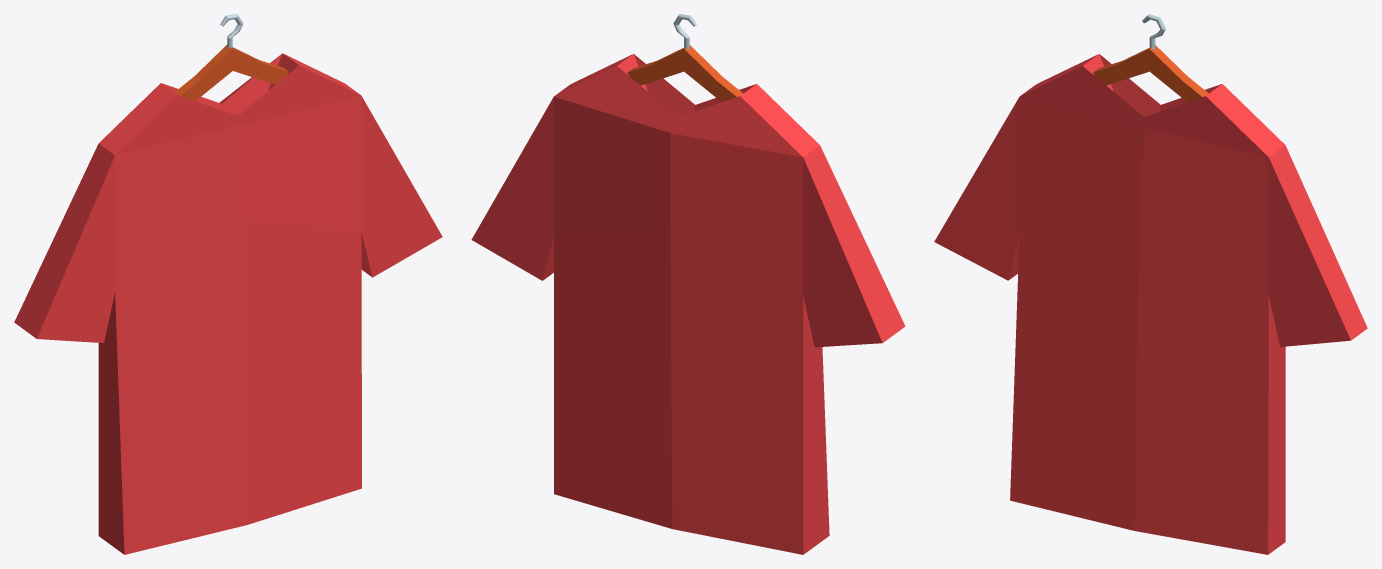
The model's file is TShirt.fbx.
3 views of the same model, side by side, from view 1: azimuth 30°, elevation 25°; view 2: azimuth 150°, elevation 25°; view 3: azimuth 330°, elevation 25° (orthographic).
Parts seen in each view (by area): view 1: Cube.001, Cube; view 2: Cube.001, Cube; view 3: Cube.001, Cube.
Boxes of the visible parts, bbox=[...] form: Cube.001: bbox=[14, 53, 442, 554]; Cube: bbox=[174, 44, 288, 100]; Cube.001: bbox=[471, 54, 905, 554]; Cube: bbox=[627, 45, 743, 101]; Cube.001: bbox=[934, 54, 1367, 554]; Cube: bbox=[1093, 45, 1208, 102].
Bounding box in the file's own units: 994 × 1154 × 144.
